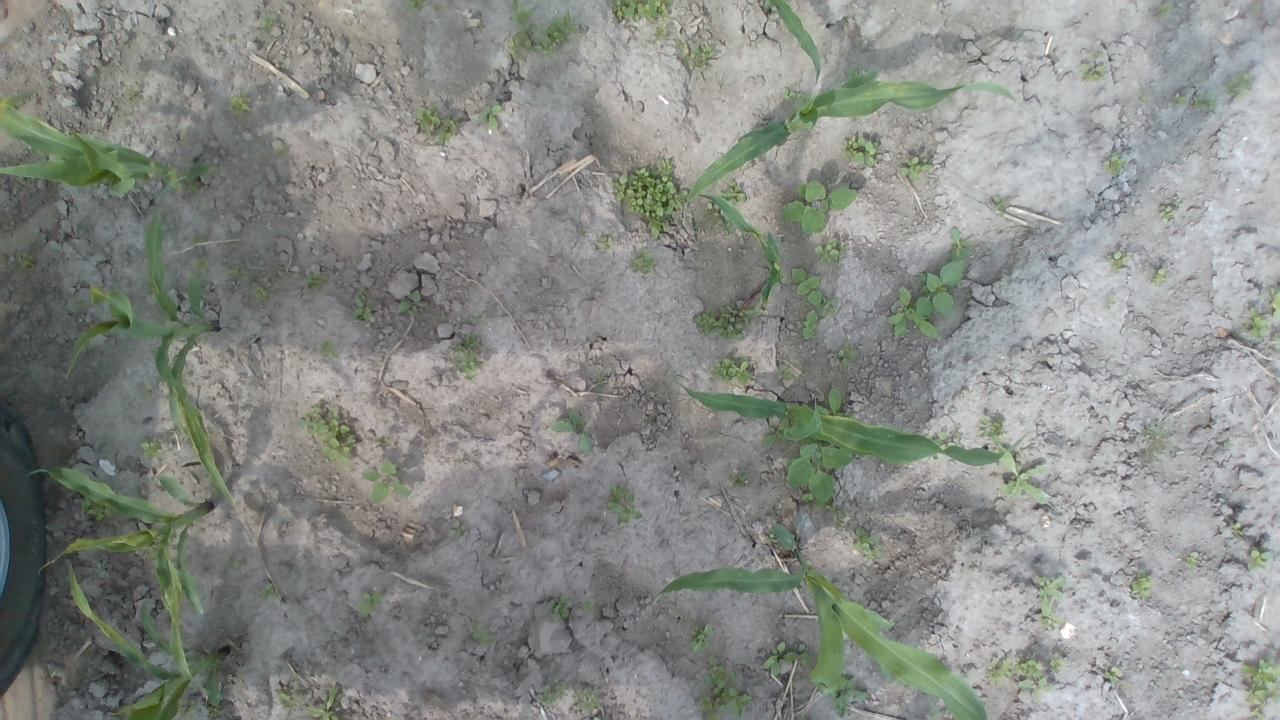Maize: (678, 0, 1018, 206), (652, 522, 988, 720), (68, 185, 239, 509), (21, 460, 216, 699), (673, 373, 1024, 464), (64, 560, 232, 720), (0, 83, 218, 205), (699, 193, 783, 316)
Weeds: (610, 157, 689, 217), (786, 439, 854, 507), (780, 179, 860, 235), (298, 402, 354, 468), (998, 446, 1051, 506), (887, 285, 940, 341), (919, 260, 963, 317), (1238, 650, 1280, 706), (360, 458, 411, 503), (694, 304, 750, 342), (534, 13, 578, 54), (550, 412, 595, 452), (1014, 658, 1052, 704), (505, 0, 537, 54), (830, 677, 870, 718), (451, 334, 485, 382), (606, 483, 643, 526), (608, 0, 674, 22), (815, 386, 855, 420), (704, 654, 736, 694), (791, 266, 823, 306), (1036, 575, 1067, 616), (764, 641, 798, 678), (1140, 422, 1172, 461), (711, 355, 750, 386), (308, 683, 340, 720), (850, 527, 884, 561), (840, 134, 877, 165), (716, 688, 754, 718), (80, 497, 118, 525), (412, 102, 441, 138), (814, 236, 846, 266), (929, 423, 964, 450), (762, 416, 791, 448), (538, 677, 570, 706), (683, 42, 718, 68), (976, 411, 1004, 442), (1245, 306, 1272, 338), (950, 226, 974, 261), (469, 614, 496, 644), (479, 100, 504, 132), (1224, 72, 1252, 100), (574, 686, 600, 716), (900, 156, 932, 180), (356, 592, 384, 619), (395, 290, 424, 316), (630, 249, 658, 275), (1130, 569, 1154, 599), (690, 624, 713, 654), (274, 684, 302, 708), (836, 341, 860, 369), (548, 593, 571, 622), (988, 657, 1012, 684), (720, 179, 745, 204), (1246, 548, 1272, 572), (436, 116, 458, 144), (1160, 197, 1184, 222), (1079, 62, 1109, 82), (352, 298, 377, 322), (228, 91, 252, 116), (698, 694, 721, 720), (1102, 154, 1128, 176), (644, 216, 670, 238), (782, 86, 812, 105), (801, 310, 820, 340), (319, 336, 342, 360), (227, 257, 250, 281), (713, 210, 733, 236), (141, 438, 165, 459), (304, 270, 328, 291), (815, 297, 840, 317), (726, 468, 748, 490), (1108, 250, 1130, 272), (1192, 90, 1216, 110), (1268, 282, 1280, 318), (176, 179, 202, 195), (830, 505, 846, 530), (256, 581, 276, 601), (1104, 663, 1123, 684), (191, 257, 213, 275), (992, 193, 1009, 216), (700, 201, 720, 219), (449, 520, 469, 538), (1049, 650, 1066, 671), (1042, 615, 1064, 631), (1150, 267, 1168, 286), (777, 364, 795, 382), (1248, 703, 1266, 720), (179, 700, 196, 718), (596, 236, 614, 252), (799, 644, 812, 666), (404, 0, 425, 13), (260, 14, 276, 31), (1185, 550, 1198, 570), (208, 704, 224, 720), (252, 285, 268, 301), (16, 253, 34, 267), (1227, 522, 1242, 538), (138, 384, 154, 399), (124, 84, 140, 99), (582, 600, 598, 614), (654, 23, 667, 40), (1172, 93, 1189, 106), (842, 66, 862, 77), (68, 298, 86, 310), (1104, 293, 1117, 309), (1156, 4, 1171, 16), (764, 532, 778, 544), (188, 235, 200, 247), (929, 708, 943, 718), (578, 226, 588, 236), (224, 558, 236, 566), (678, 38, 686, 49), (474, 312, 483, 321), (596, 377, 604, 387), (797, 714, 809, 720), (593, 714, 604, 720), (358, 286, 366, 294), (1140, 93, 1147, 100)
